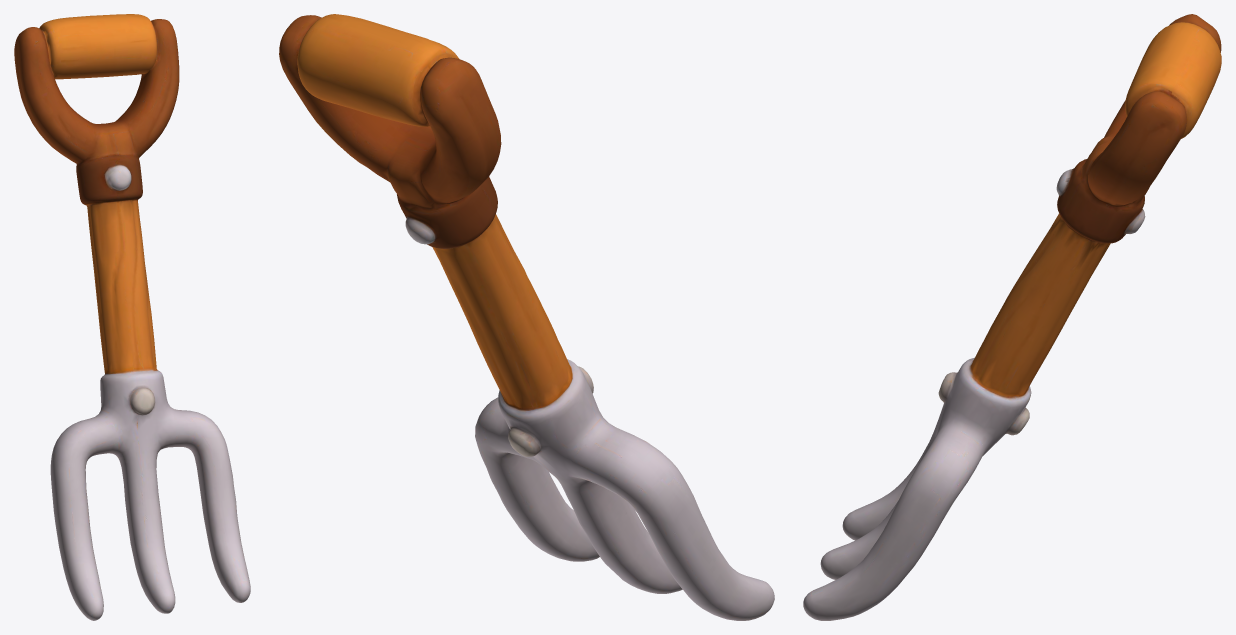
3 views of the same model, side by side, from view 1: azimuth 30°, elevation 25°; view 2: azimuth 150°, elevation 25°; view 3: azimuth 270°, elevation 25° (orthographic). The views are drawn at different scales.
Parts seen in each view (by area): view 1: pitchfork; view 2: pitchfork; view 3: pitchfork.
Boxes of the visible parts, x1,y1,x2,y2 form: pitchfork: [14, 14, 250, 620]; pitchfork: [279, 14, 774, 620]; pitchfork: [803, 14, 1221, 620].
Size of the model in its own units: 0.5582 by 1.2 by 0.79.
Materials: 1 (1 with a texture image).
